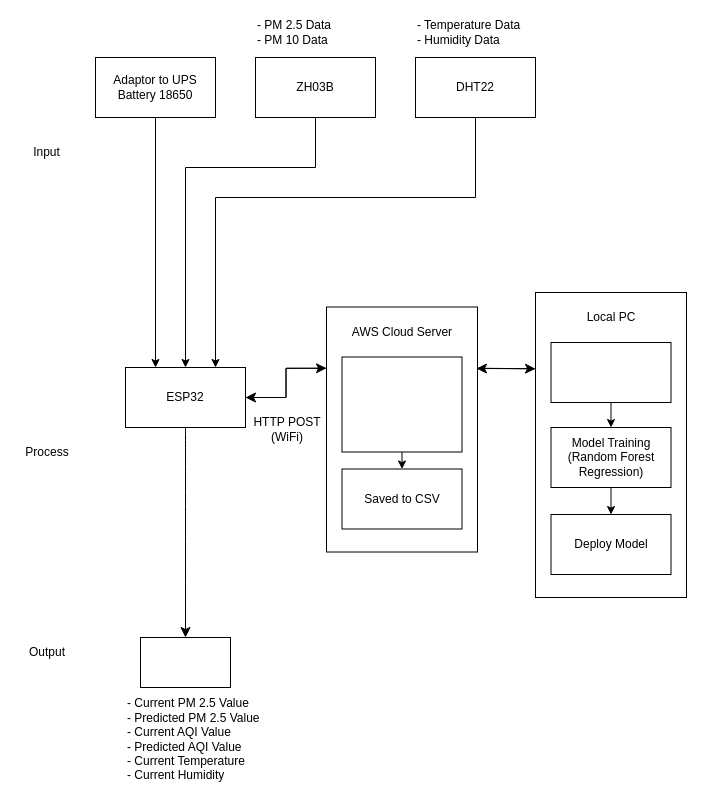
Image size: 704x799. Some labels were removed from this diagram. The shapes that lost their labels are listed below. From the top down, each one's centre as x and y in pixels, then its label:
At point (610, 372): "Data Preprocessing".
At point (401, 404): "Flask (Convert PM2.5 Val to AQI Val)".
At point (185, 662): "LCD I2C".
